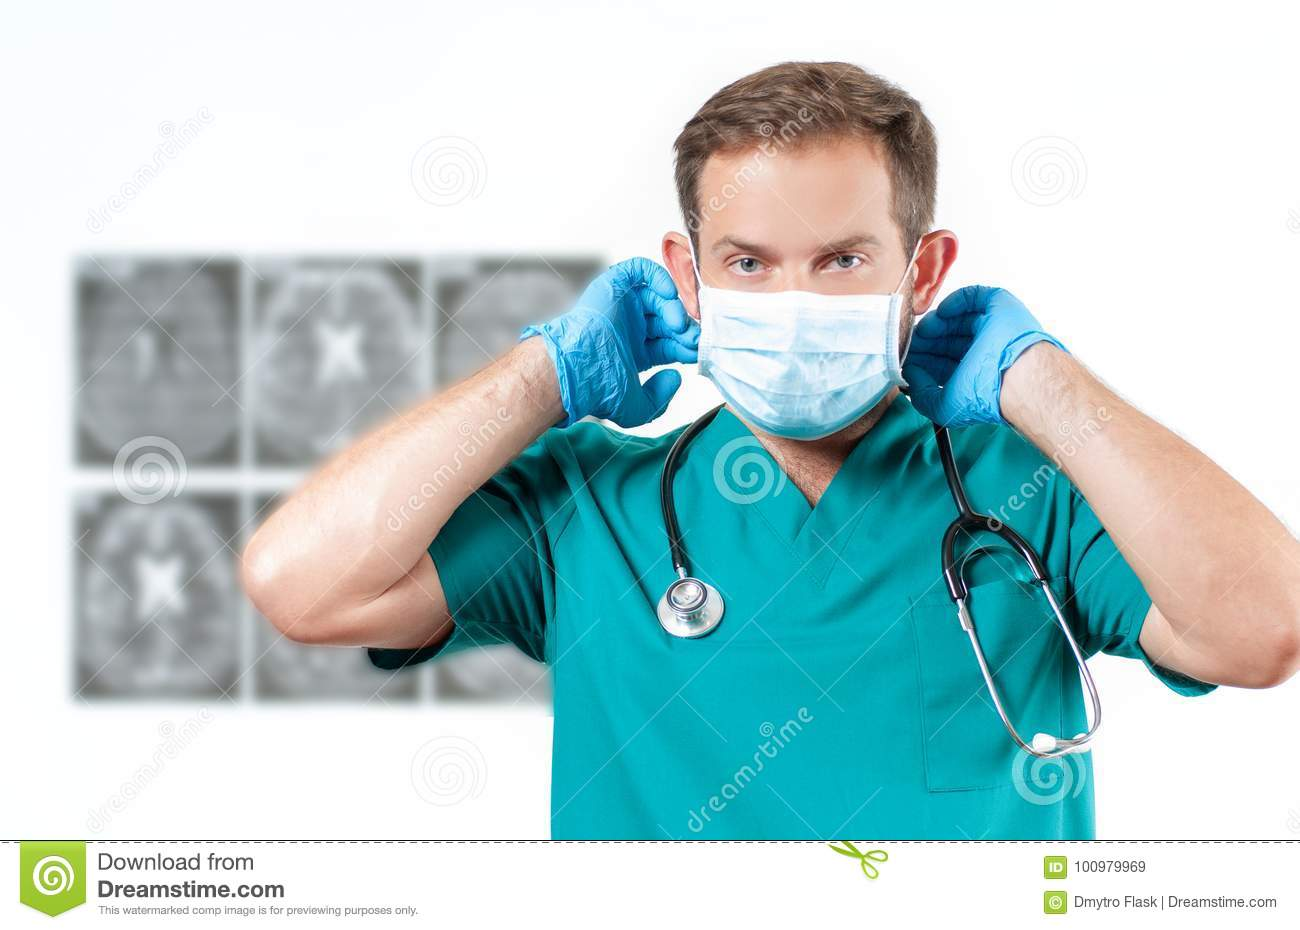mask: (682, 284, 905, 426)
